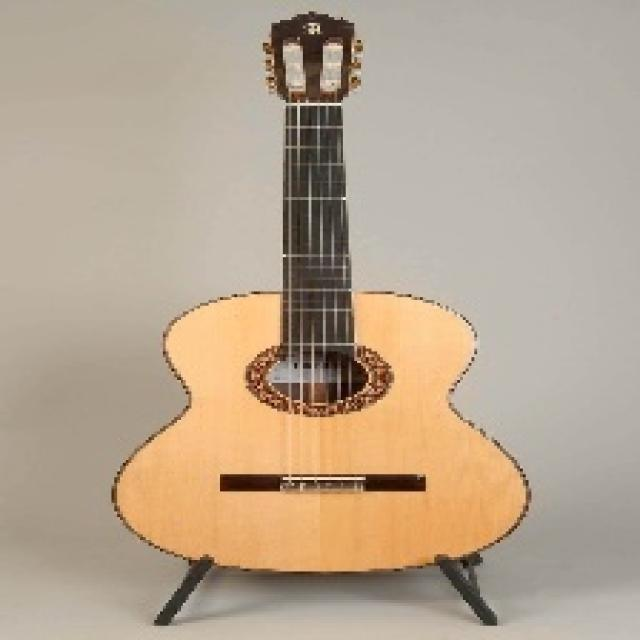acousticguitar: (113, 14, 528, 571)
